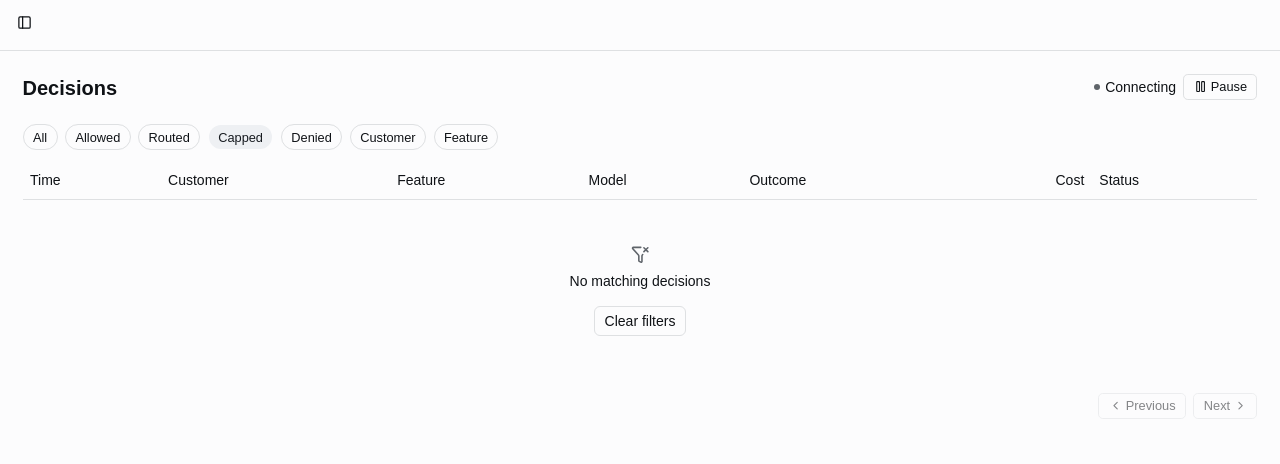
shows an empty state without decisions and a clear action with filters
Expected: the text "No matching decisions" is shown, [570,271,710,291]
Click the button "Clear filters" at (640, 321), box [594,306,686,336]
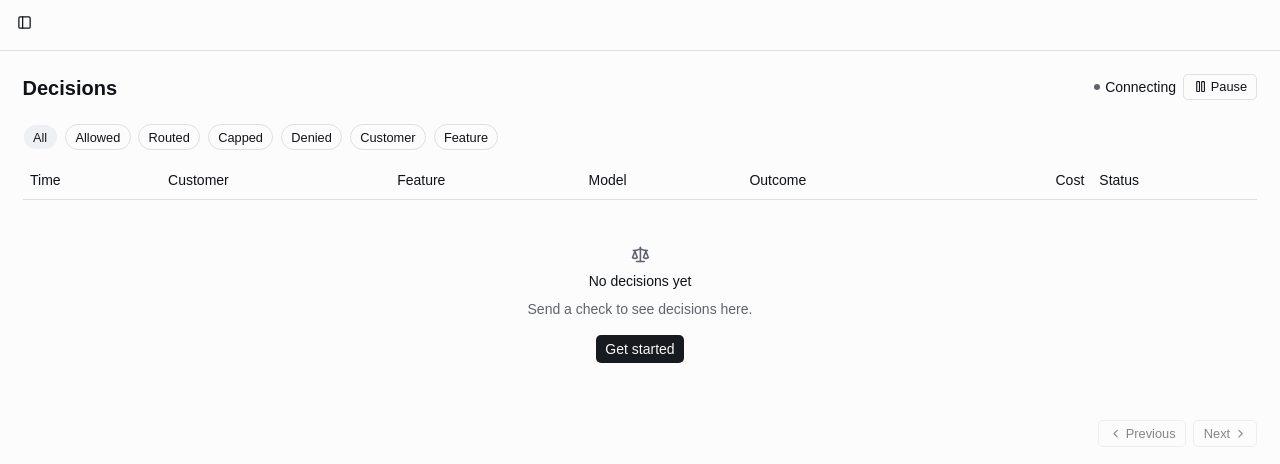
Result: the text "No decisions yet" is shown at [589,271,691,291]
